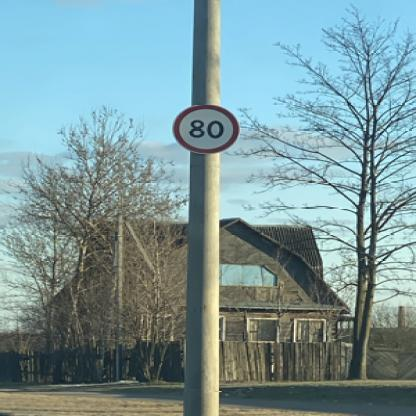Speed Limit 80: (174, 103, 240, 155)
